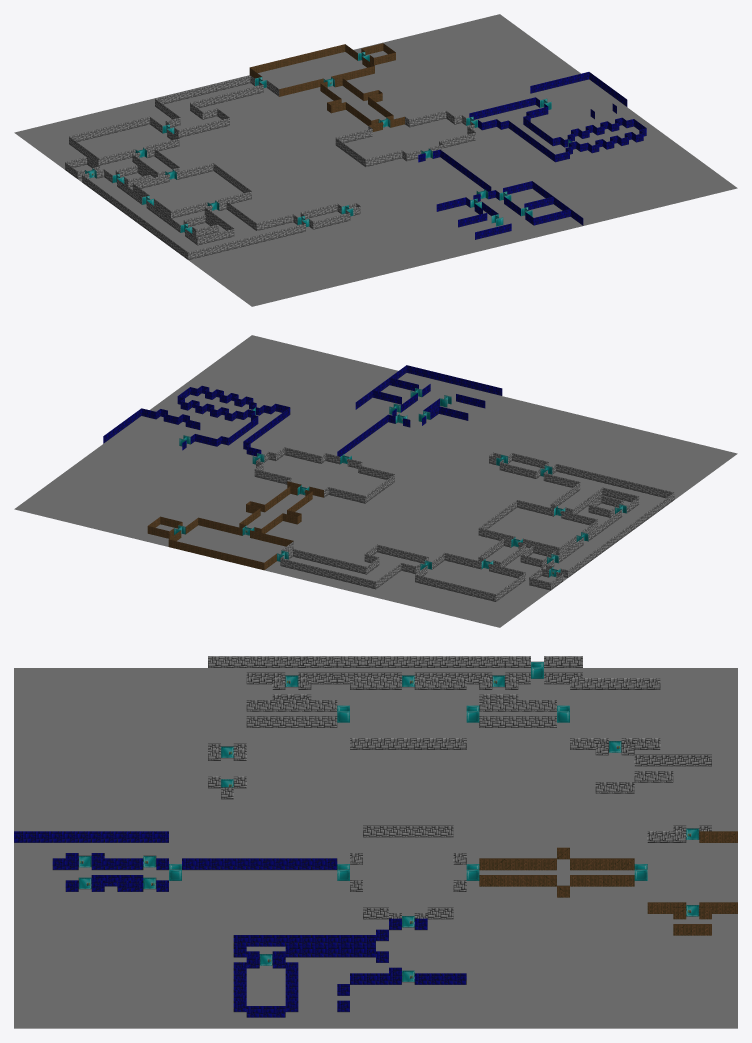
The model's file is WolfensteinMap.obj.
3 views of the same model, one above another, from view 1: azimuth 30°, elevation 25°; view 2: azimuth 150°, elevation 25°; view 3: azimuth 270°, elevation 25° (orthographic). The views are drawn at different scales.
Visible parts, largest first — view 1: Plane001; view 2: Plane001; view 3: Plane001.
Boxes of the visible parts, bbox=[...] form: Plane001: bbox=[14, 14, 737, 306]; Plane001: bbox=[14, 335, 737, 627]; Plane001: bbox=[14, 668, 737, 1028].
Bounding box in the file's own units: 66 × 1 × 56.
